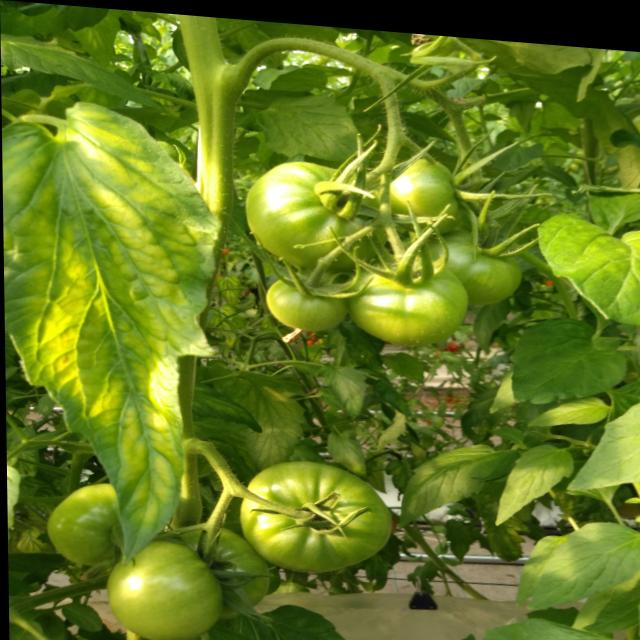yesil: (197, 435, 431, 573)
